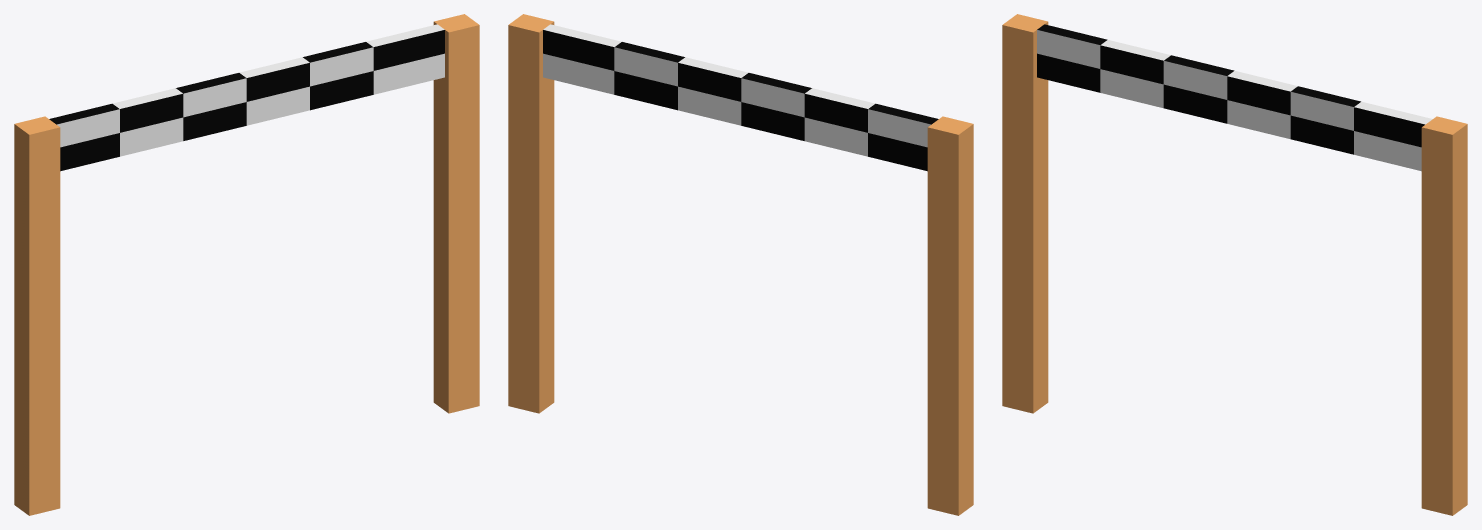
File: meta.fbx
The picture shows the model from 3 angles, left to right: view 1: azimuth 30°, elevation 25°; view 2: azimuth 150°, elevation 25°; view 3: azimuth 330°, elevation 25°; orthographic projection.
Visible parts, largest first — view 1: Model; view 2: Model; view 3: Model.
Part boxes in pixels (x1=…): Model: x1=14, y1=14, x2=479, y2=515; Model: x1=508, y1=14, x2=973, y2=515; Model: x1=1002, y1=14, x2=1467, y2=515.
Bounding box in the file's own units: 2.77 × 2.24 × 0.16.
